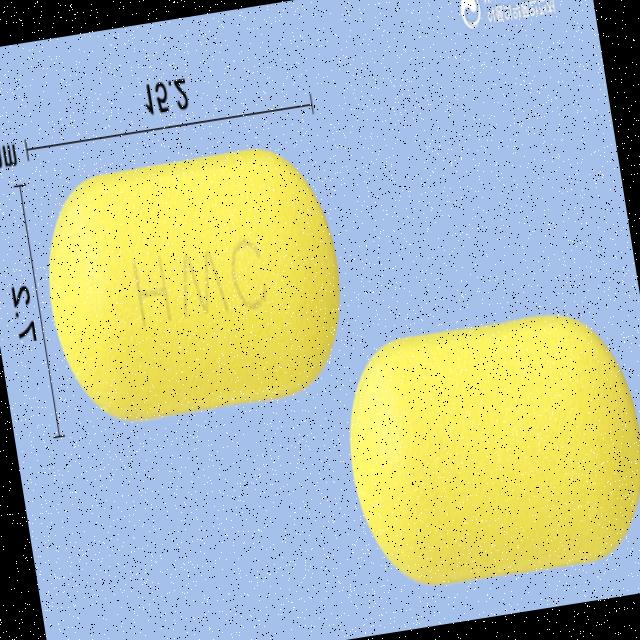Clacid - 250mg: (27, 127, 366, 442), (330, 296, 640, 605)
